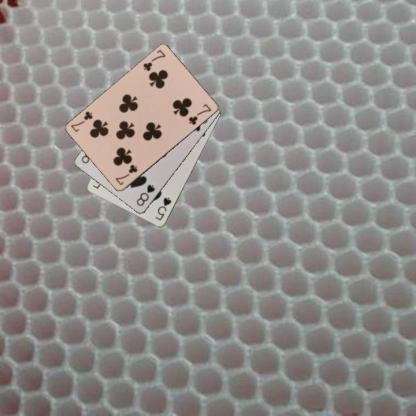5s: (152, 195, 172, 222)
7c: (140, 47, 167, 73), (112, 162, 138, 186)
8s: (134, 182, 156, 207)
